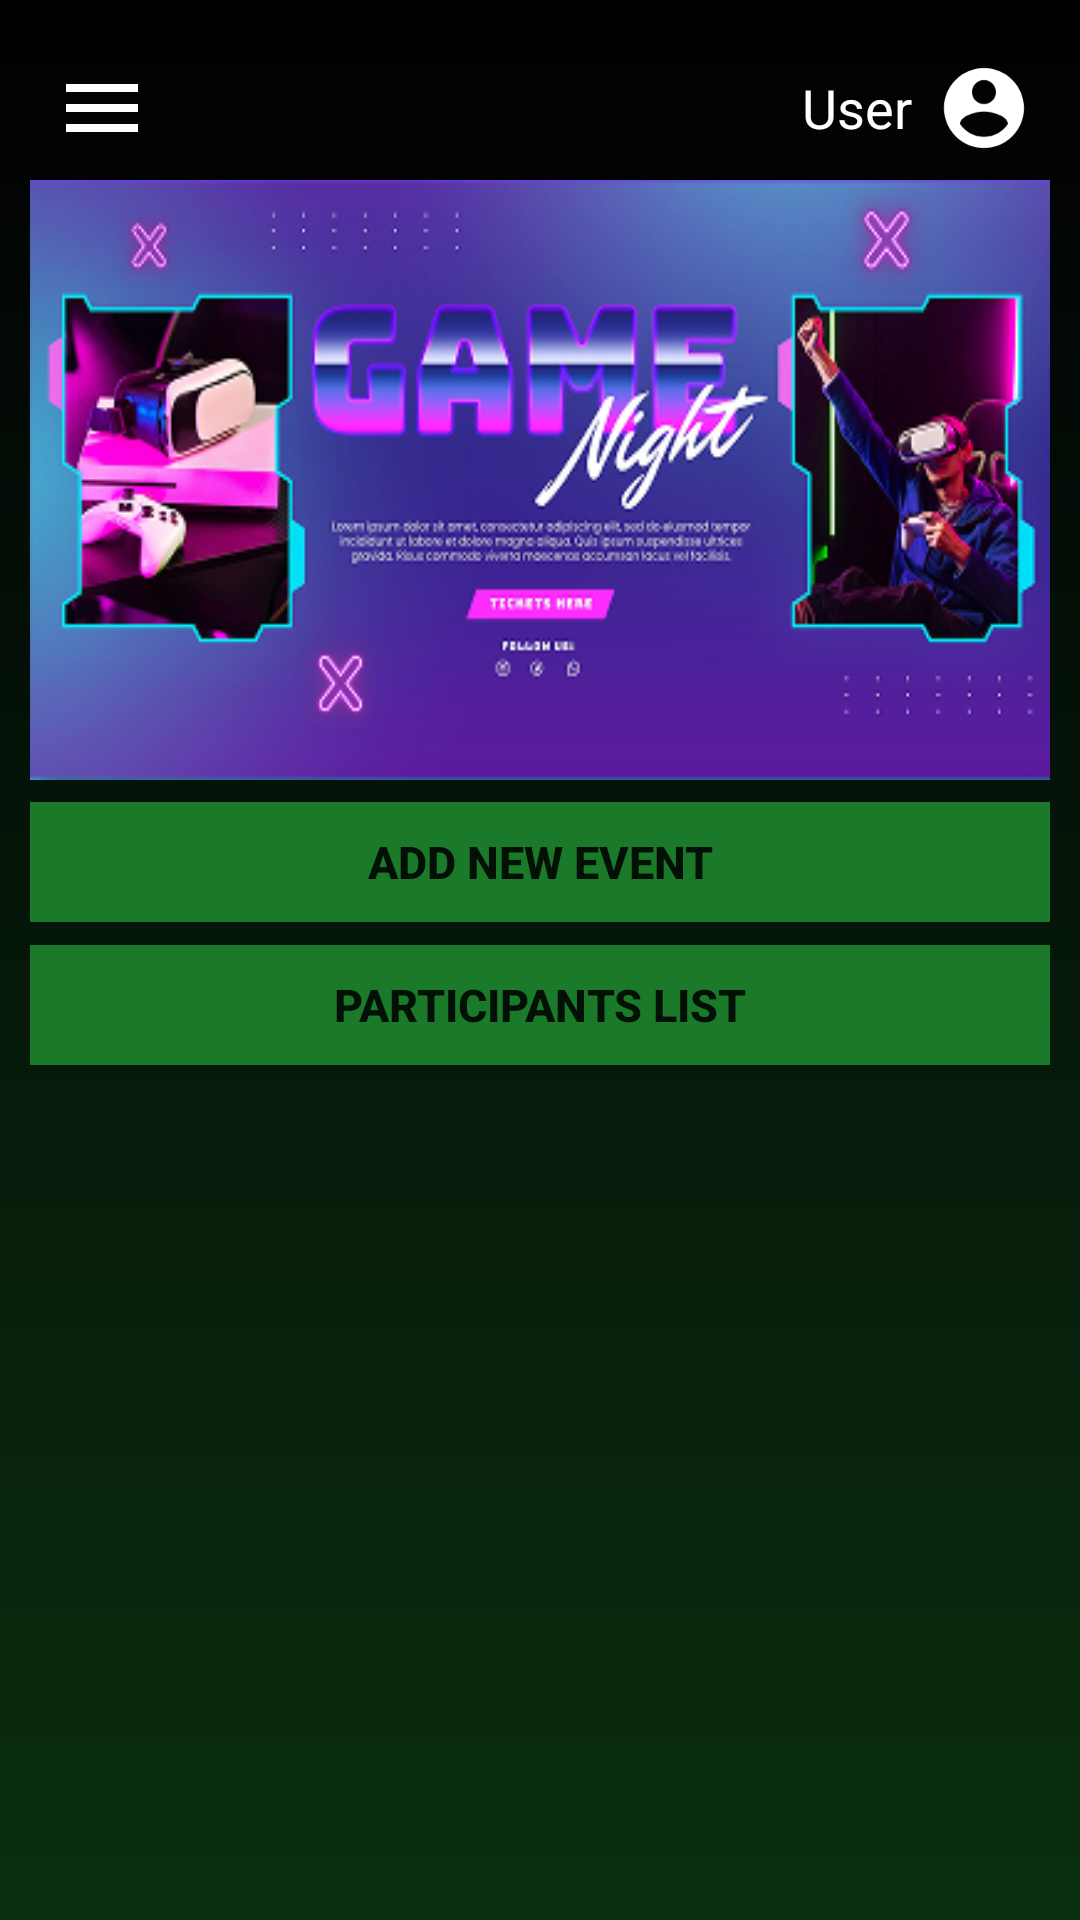

Icon bounding boxes for this 1080x1920 phone screenshot, format (x1, y1, x2, y2):
menu: (66, 84, 138, 132)
profile: (943, 67, 1025, 149)
